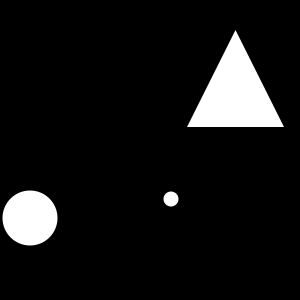rectangle: (3, 190, 57, 246), (163, 192, 178, 206)
triangle: (187, 30, 284, 127)
